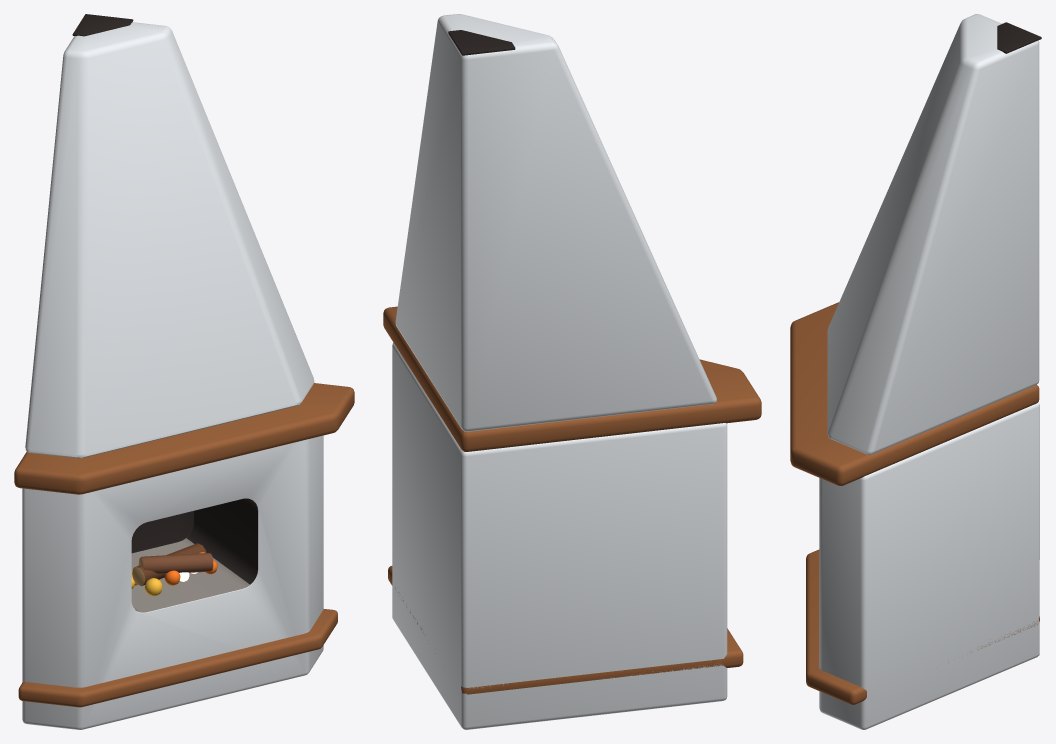
The model's file is lareira_canto_coifa.glb.
The picture shows the model from 3 angles, left to right: view 1: azimuth 30°, elevation 25°; view 2: azimuth 150°, elevation 25°; view 3: azimuth 270°, elevation 25°; orthographic projection. The views are drawn at different scales.
Visible parts, largest first — view 1: lareira_canto_coifa; view 2: lareira_canto_coifa; view 3: lareira_canto_coifa.
Boxes of the visible parts, x1,y1,x2,y2 form: lareira_canto_coifa: (14, 14, 354, 729); lareira_canto_coifa: (383, 14, 761, 729); lareira_canto_coifa: (790, 14, 1041, 729).
Size of the model in its own units: 1.34 by 2.3 by 0.8466.
2 materials, 1 textured.
